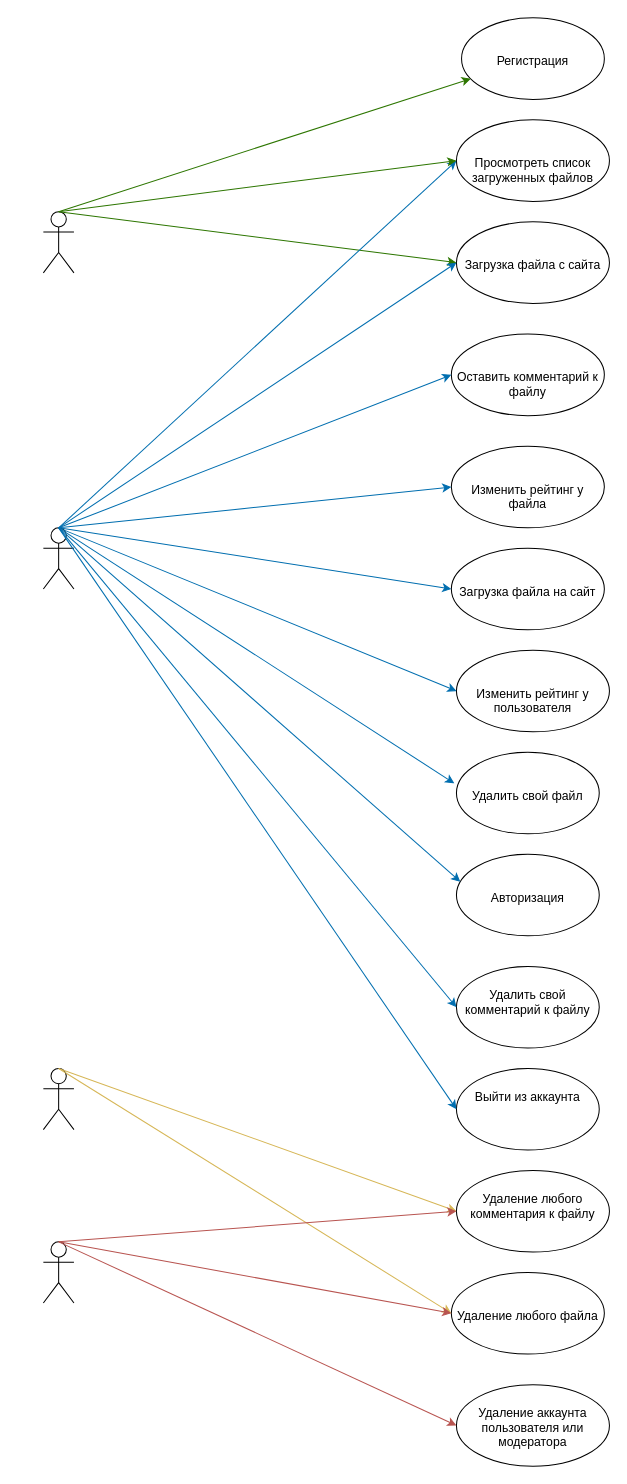
Some shapes in this 627 by 1484 pixel diagram are drawn without their labels. Each missing label, with the centre of its shape:
Администратор: [58,1272]
Гость: [58,242]
Модератор: [58,1098]
Пользователь: [58,558]
